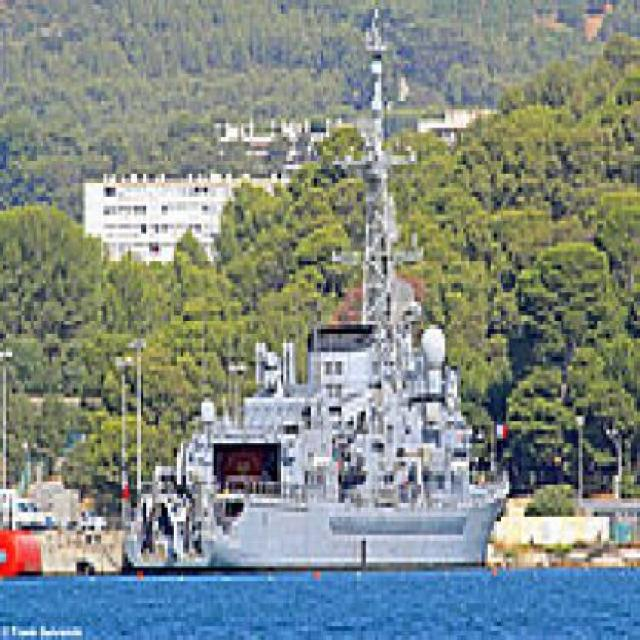warship2: (162, 1, 515, 587)
